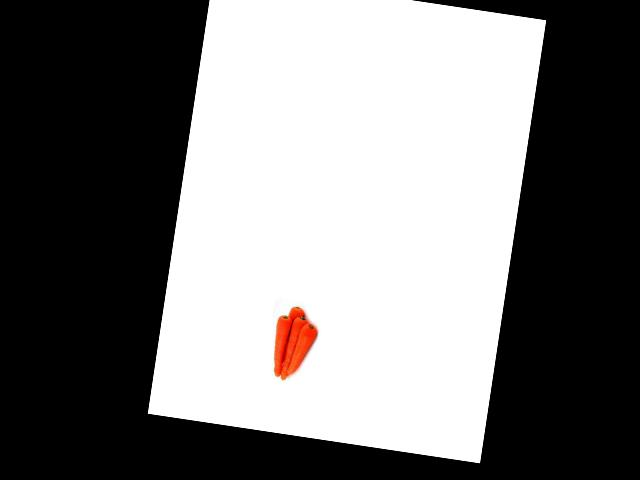carrot: (292, 320, 317, 379)
